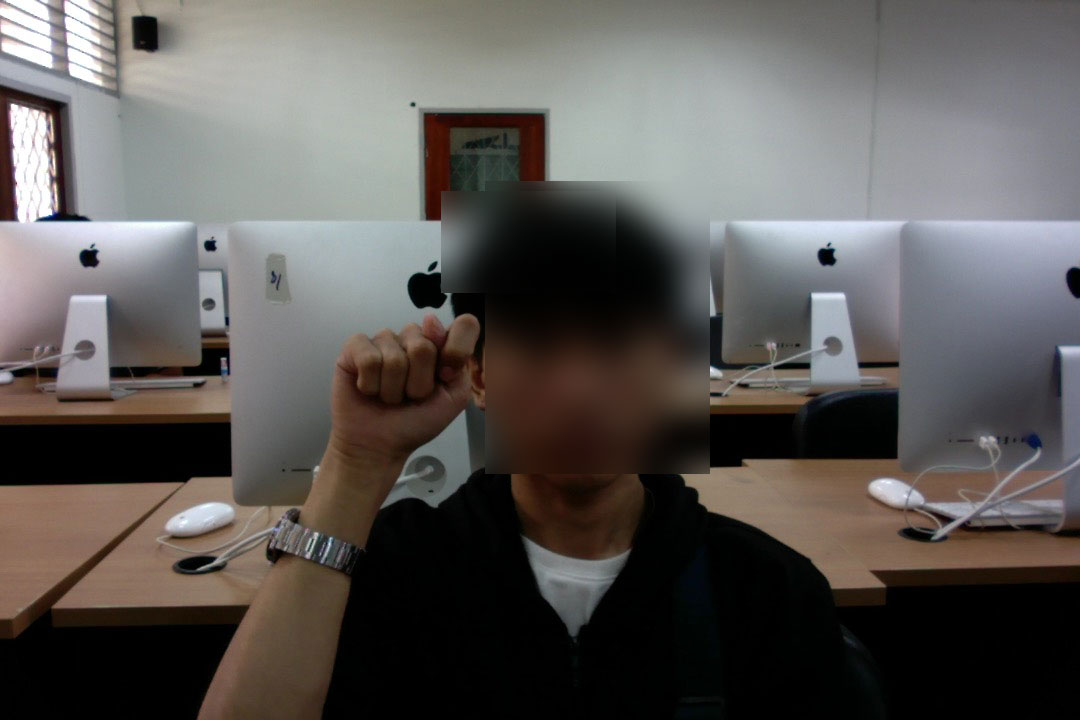tor: (315, 310, 486, 463)
